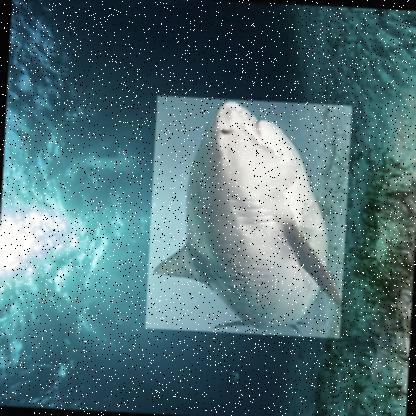tiger-shark: (144, 95, 352, 339)
